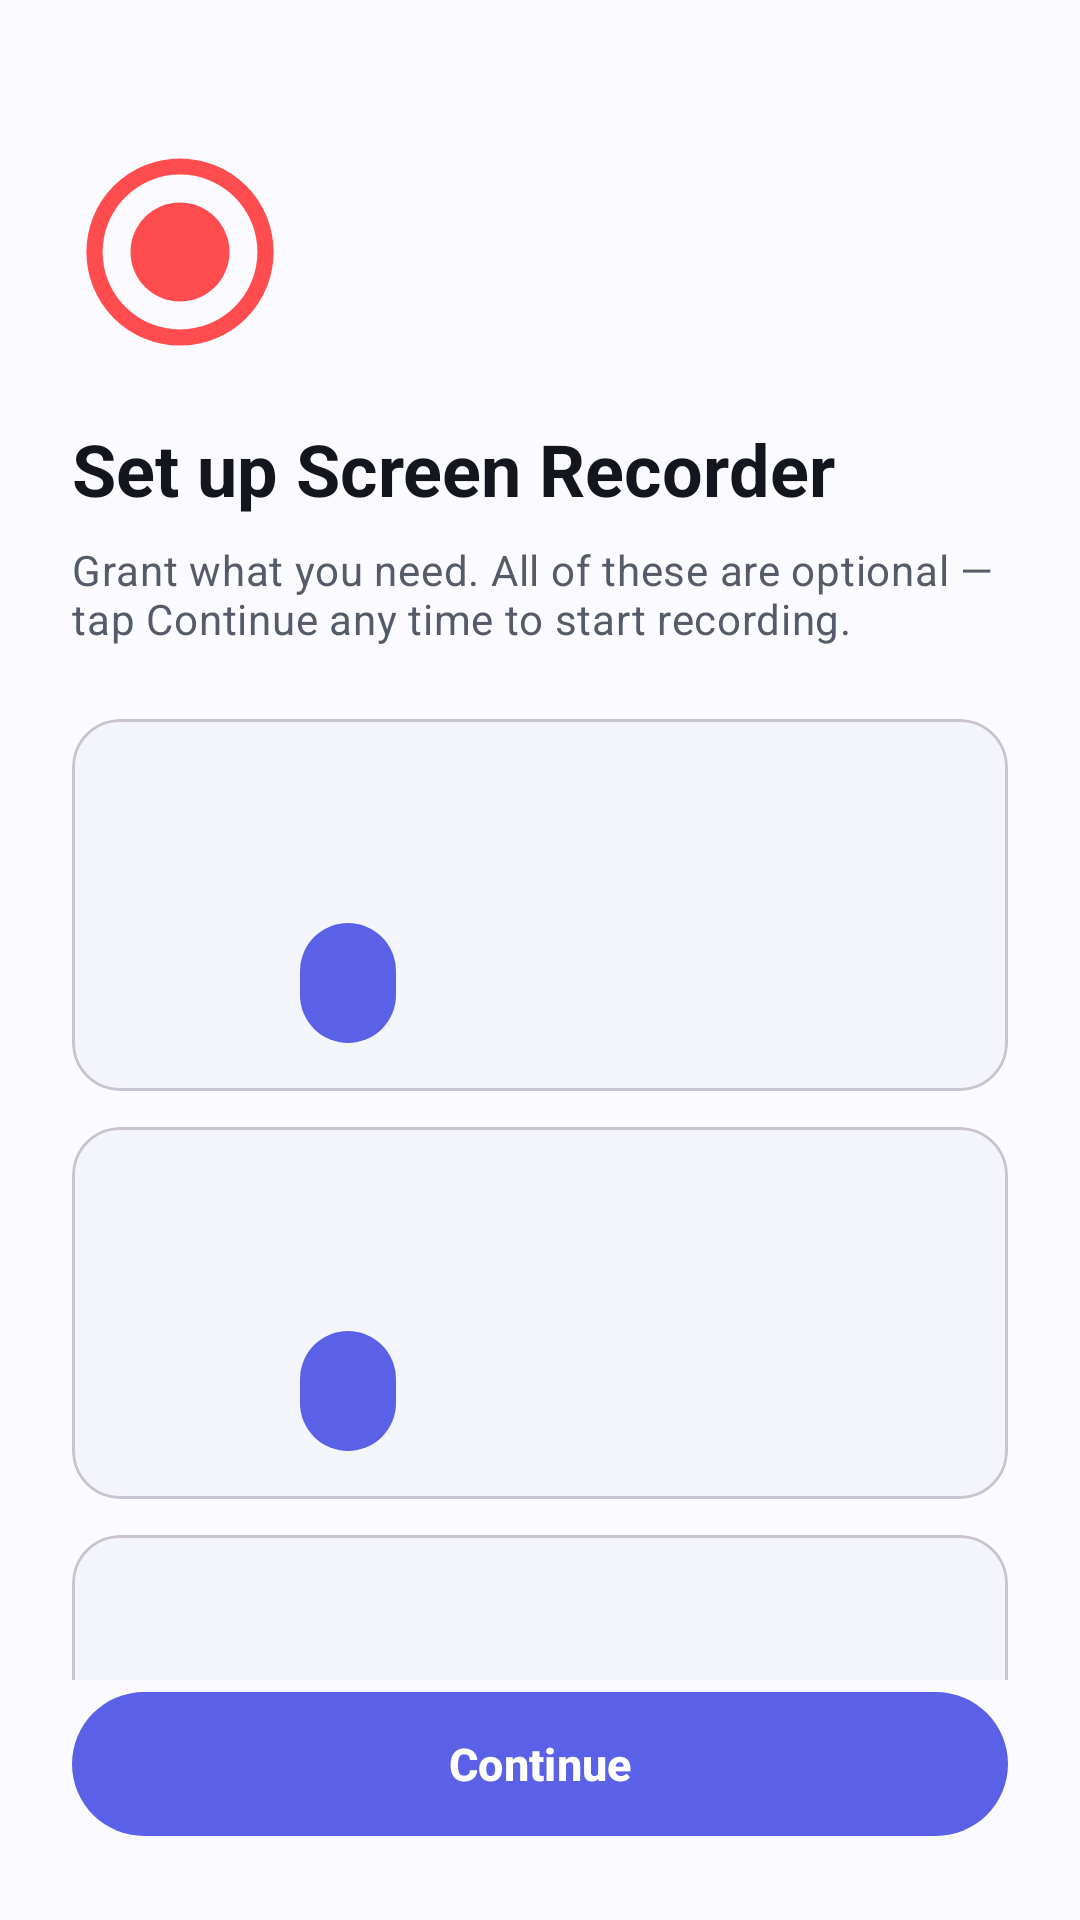

Icons on this 1080×1920 Android screen, each with the point to tap as (x=x, y=y):
record ring: (x=180, y=252)
